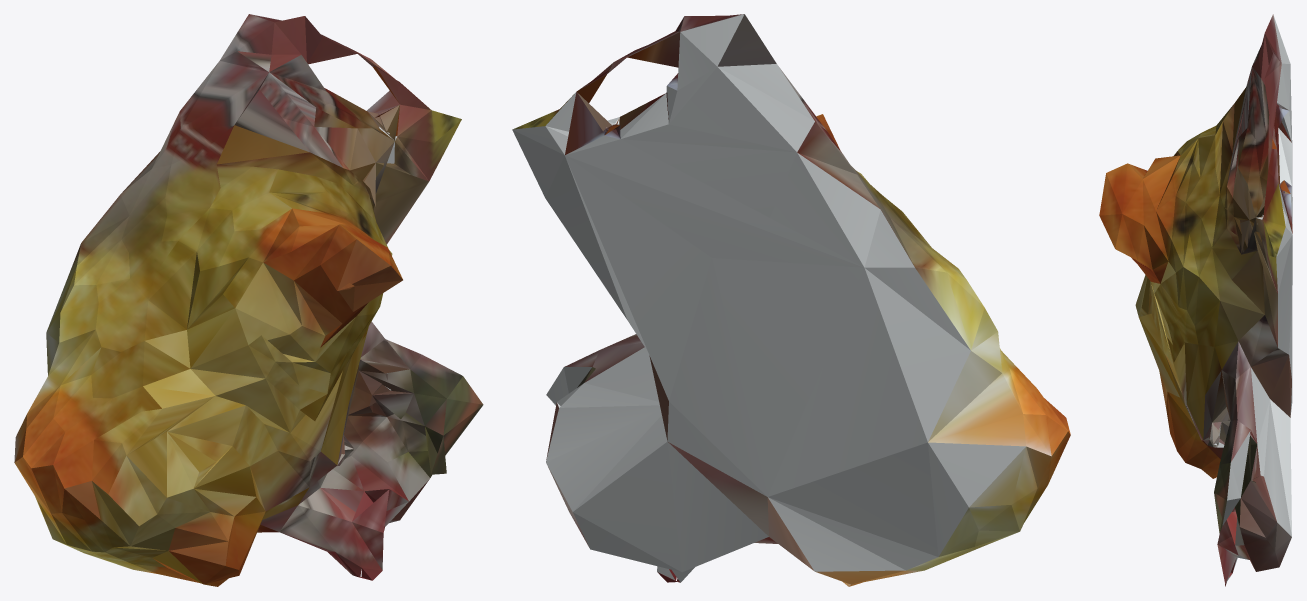
File: kong_duck_dog_toy.dae
The picture shows the model from 3 angles, left to right: view 1: azimuth 30°, elevation 25°; view 2: azimuth 150°, elevation 25°; view 3: azimuth 270°, elevation 25°; orthographic projection. The views are drawn at different scales.
Parts seen in each view (by area): view 1: node; view 2: node; view 3: node.
Part boxes in pixels (x1=…): node: x1=14, y1=14, x2=483, y2=586; node: x1=512, y1=14, x2=1070, y2=586; node: x1=1099, y1=14, x2=1292, y2=586.
Bounding box in the file's own units: 0.1504 × 0.1719 × 0.057.
1 material, 1 textured.
